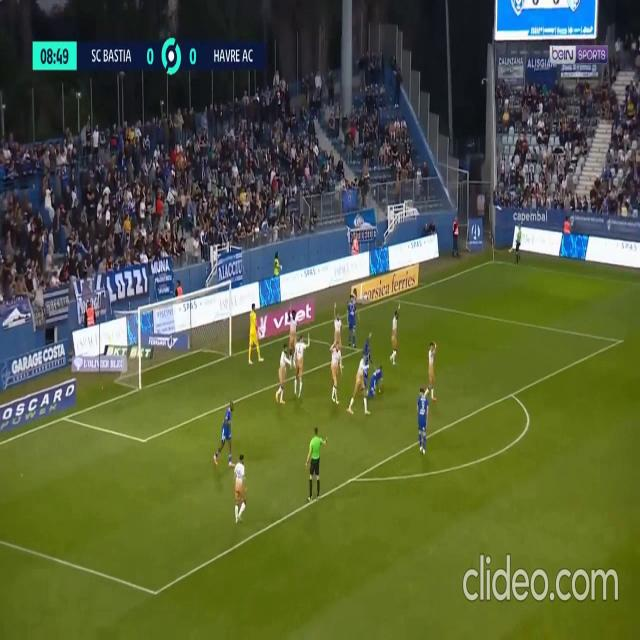goalkeeper: (248, 315, 262, 366), (511, 221, 521, 264)
player: (216, 400, 234, 468), (349, 354, 367, 411), (416, 382, 430, 455), (234, 450, 247, 524), (330, 337, 343, 401), (360, 331, 375, 385), (276, 342, 290, 399), (292, 333, 306, 387), (248, 316, 263, 366), (426, 340, 437, 401), (347, 297, 359, 348), (333, 308, 344, 353), (390, 311, 399, 365), (286, 326, 297, 368)
referee: (306, 427, 322, 503), (510, 222, 521, 265)
